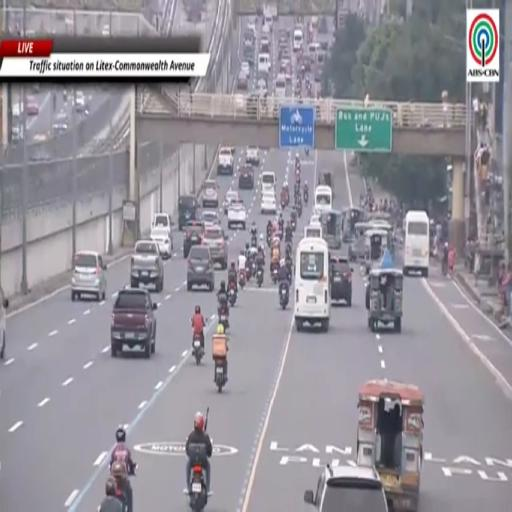bus: (294, 237, 330, 331), (403, 211, 429, 277), (314, 185, 332, 215), (304, 223, 323, 238)
car: (304, 466, 388, 511), (111, 288, 157, 358), (71, 251, 106, 301), (131, 239, 164, 292), (329, 253, 353, 307), (187, 245, 214, 291), (203, 227, 227, 269), (183, 220, 204, 258), (150, 226, 173, 259), (178, 196, 199, 230), (0, 287, 8, 359), (228, 200, 247, 230), (152, 213, 172, 235), (202, 180, 218, 207), (218, 147, 233, 175), (223, 190, 239, 214), (239, 165, 254, 189), (261, 191, 276, 214), (53, 114, 68, 135), (202, 210, 220, 227), (246, 147, 260, 166), (75, 91, 87, 113), (27, 96, 38, 116), (237, 72, 248, 90), (256, 77, 267, 94), (241, 61, 250, 78), (247, 20, 256, 34), (310, 215, 320, 225), (102, 25, 110, 37), (262, 25, 270, 35)
jeepney: (357, 380, 424, 511), (366, 268, 402, 332), (348, 222, 371, 261), (342, 207, 366, 243), (321, 210, 341, 249)
motorcycle: (189, 444, 208, 511), (115, 464, 136, 511), (189, 463, 207, 511), (215, 358, 226, 392), (193, 333, 204, 364), (218, 306, 229, 331), (279, 283, 289, 309), (228, 284, 236, 307), (271, 263, 279, 283), (256, 267, 263, 287), (239, 269, 246, 289), (245, 260, 251, 282), (285, 231, 293, 246), (286, 260, 292, 276), (251, 258, 256, 276), (442, 259, 447, 276), (251, 235, 257, 247), (285, 243, 292, 253), (297, 203, 302, 217), (267, 234, 272, 247), (281, 197, 286, 210), (295, 167, 300, 180), (291, 219, 296, 232), (304, 190, 308, 204), (305, 147, 309, 156)
